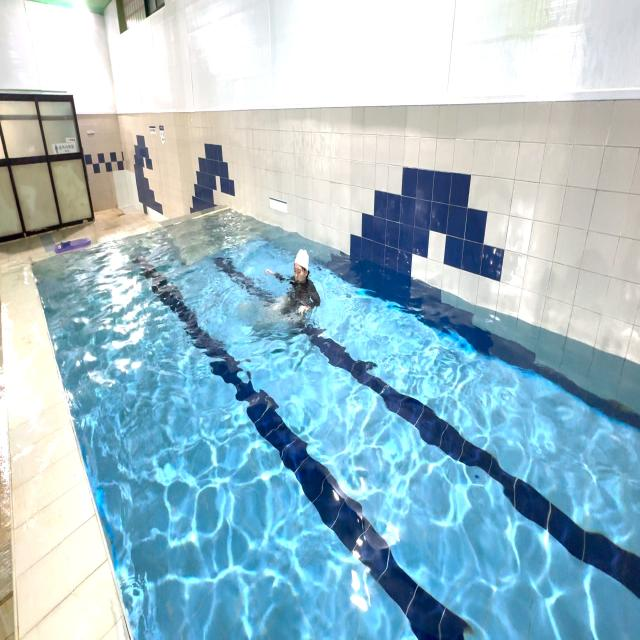Swimming: (262, 241, 324, 334)
